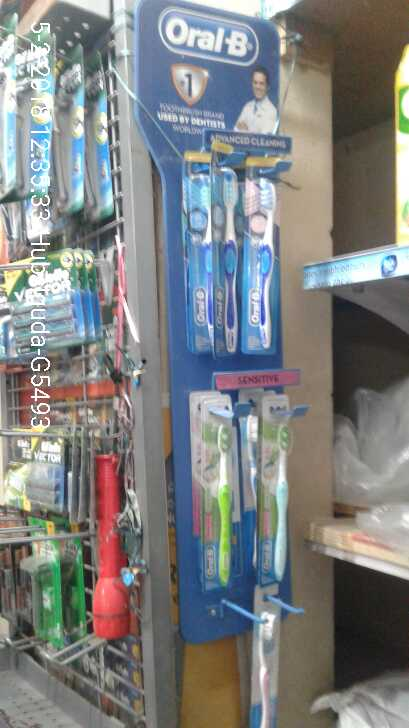oralb: (204, 400, 240, 591), (248, 157, 281, 361), (183, 153, 216, 356), (214, 146, 244, 357), (260, 396, 293, 583), (254, 590, 280, 728)
